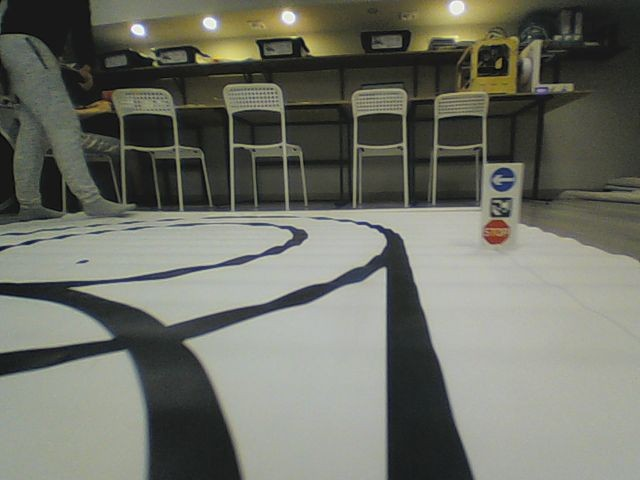Stop: (481, 218, 511, 245)
